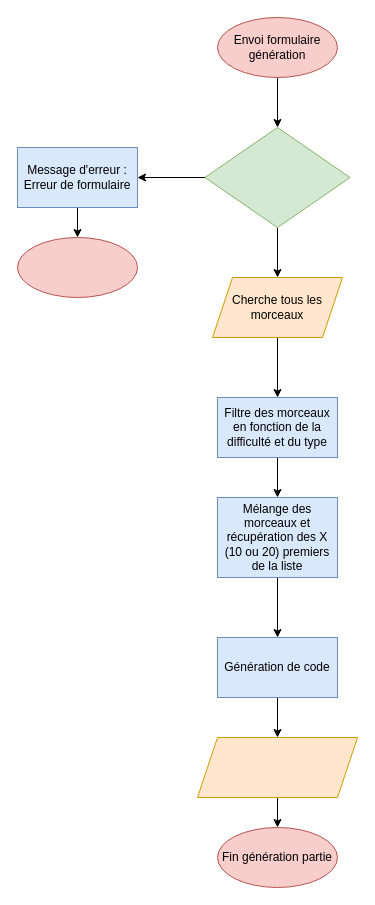
The diagram is 375 pixels wide and 905 high, and some of its shapes have lost their labels. Here are the shapes that lost their labels. From the top down, the box of each, then its label:
(204, 126, 350, 228): Vérification que les données existent
(16, 236, 138, 298): Page génération
(196, 736, 358, 798): Ajout la partie, le code et les morceaux liés dans la base de donnée
